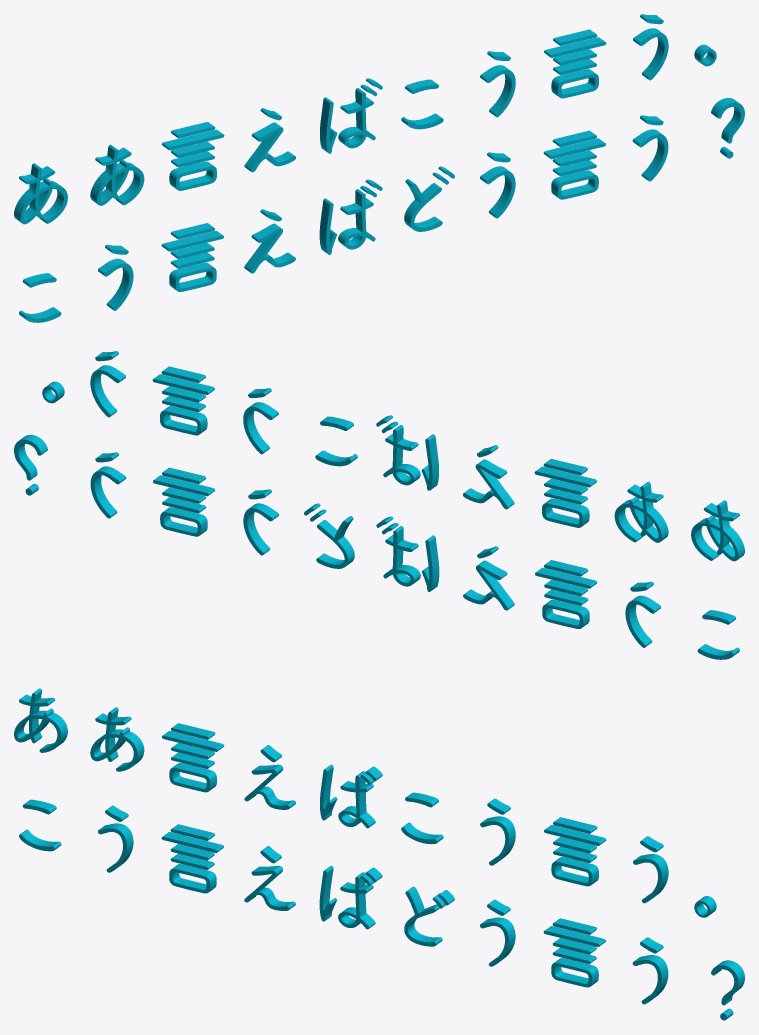
File: title-jp.gltf
3 views of the same model, one above another, from view 1: azimuth 30°, elevation 25°; view 2: azimuth 150°, elevation 25°; view 3: azimuth 330°, elevation 25° (orthographic).
Parts seen in each view (by area): view 1: Path (×17), キャップ 1 (×11); view 2: Path (×17), キャップ 2 (×11); view 3: Path (×16), キャップ 1 (×8).
Part boxes in pixels (bbox=[...]): Path (×17): bbox=[14, 14, 740, 309]; キャップ 1 (×11): bbox=[20, 34, 606, 291]; Path (×17): bbox=[18, 351, 744, 646]; キャップ 2 (×11): bbox=[152, 371, 738, 628]; Path (×16): bbox=[17, 688, 668, 999]; キャップ 1 (×8): bbox=[14, 693, 599, 987].
Size of the model in its own units: 1.27 by 0.2784 by 0.02.
